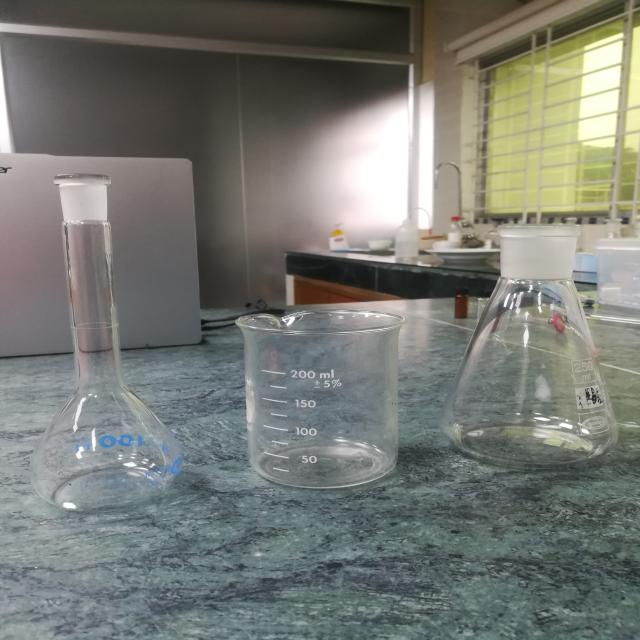Beaker: (226, 291, 420, 501)
Conical_Flask: (432, 206, 640, 481)
Volumetric_Flask: (18, 160, 202, 528)
